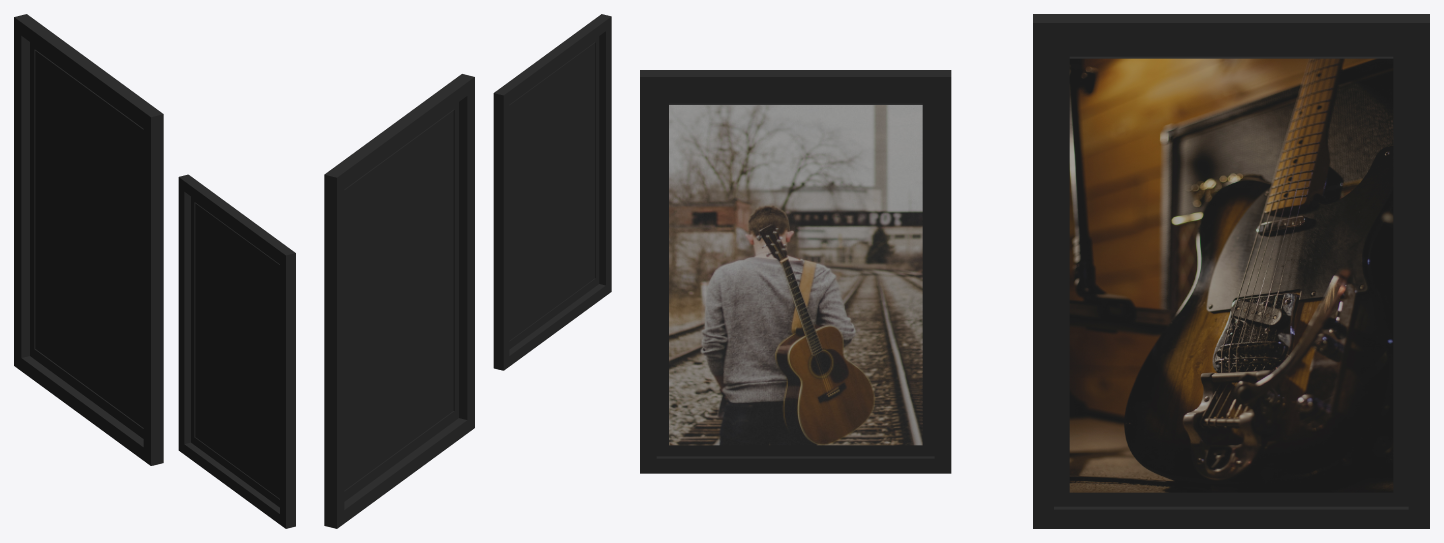
The model's file is Cadre_guitare_03.fbx.
3 renders of one model, left to right at view 1: azimuth 30°, elevation 25°; view 2: azimuth 150°, elevation 25°; view 3: azimuth 270°, elevation 25°, orthographic. The views are drawn at different scales.
Visible parts, largest first — view 1: SM_PicFrameR2, SM_PicFrameR3; view 2: SM_PicFrameR2, SM_PicFrameR3; view 3: SM_PicFrameR2, SM_PicFrameR3.
Boxes of the visible parts, x1=… form: SM_PicFrameR2: x1=14, y1=14, x2=163, y2=465; SM_PicFrameR3: x1=178, y1=174, x2=295, y2=528; SM_PicFrameR2: x1=324, y1=74, x2=474, y2=528; SM_PicFrameR3: x1=493, y1=14, x2=611, y2=370; SM_PicFrameR2: x1=1033, y1=14, x2=1429, y2=528; SM_PicFrameR3: x1=640, y1=70, x2=951, y2=473.
Bounding box in the file's own units: 3.48 × 123 × 87.28.
